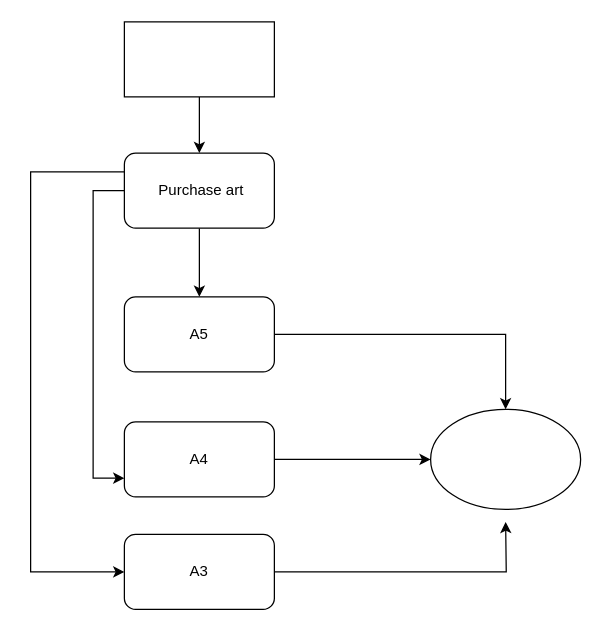
The diagram is 603 pixels wide and 631 high, and some of its shapes have lost their labels. Here are the shapes that lost their labels. From the top down, the box of each, then its label:
(123, 21, 274, 97): Customer
(429, 408, 581, 509): Orders
